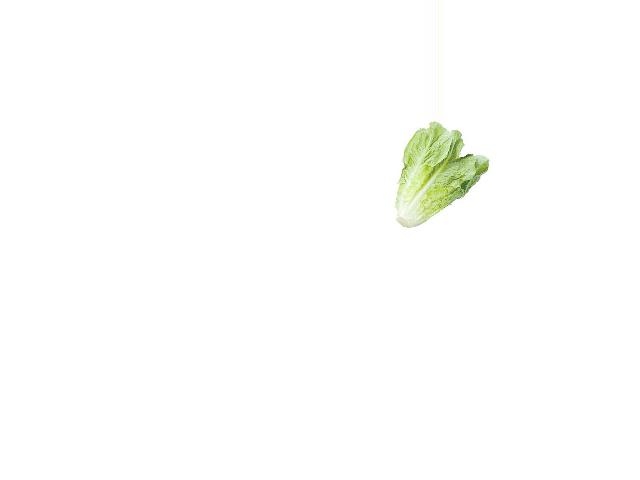lettuce: (391, 119, 492, 227)
